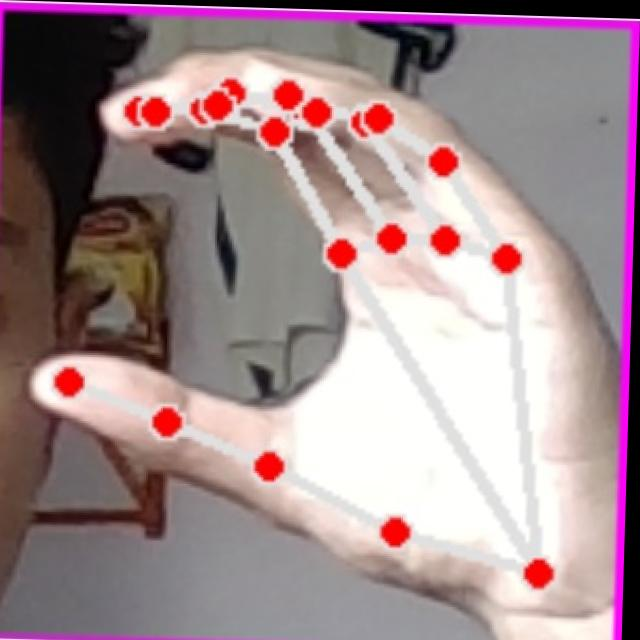C: (13, 28, 618, 625)
